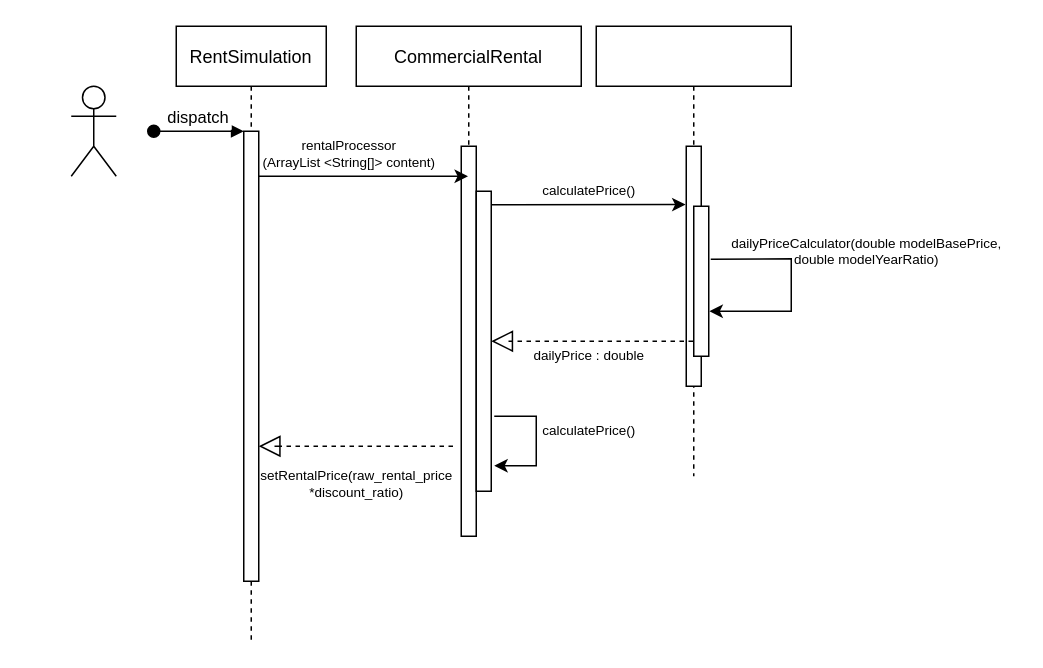
The diagram is 1043 pixels wide and 668 high, and some of its shapes have lost their labels. Each missing label, with the box of its shape:
CommercialCustomer: (595, 25, 791, 476)
Price Calculation: (70, 85, 116, 176)
